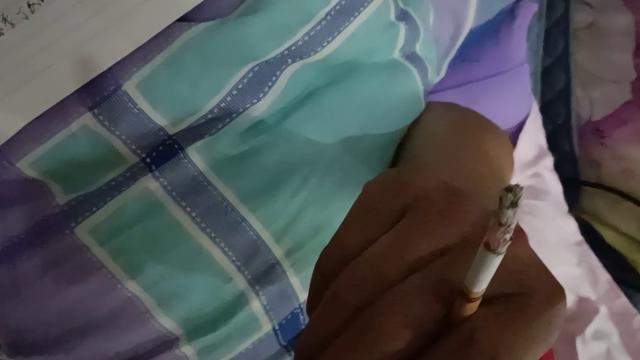Smoking: (444, 183, 526, 343)
